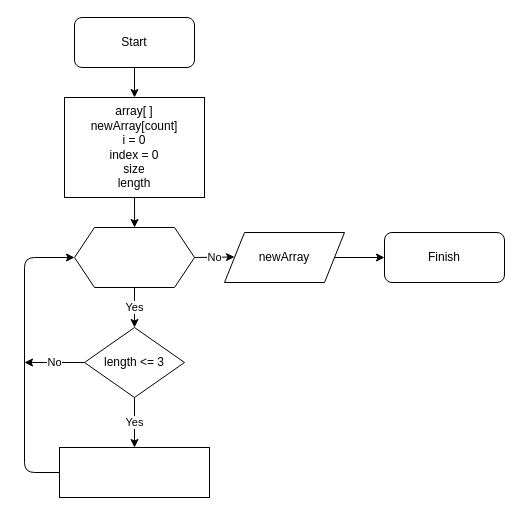
The diagram is 522 pixels wide and 515 high, and some of its shapes have lost their labels. The centre of each missing label's shape, as x and y in pixels:
i < size: the point at 134,257
newArray[index] = array[i] index++: the point at 134,472
